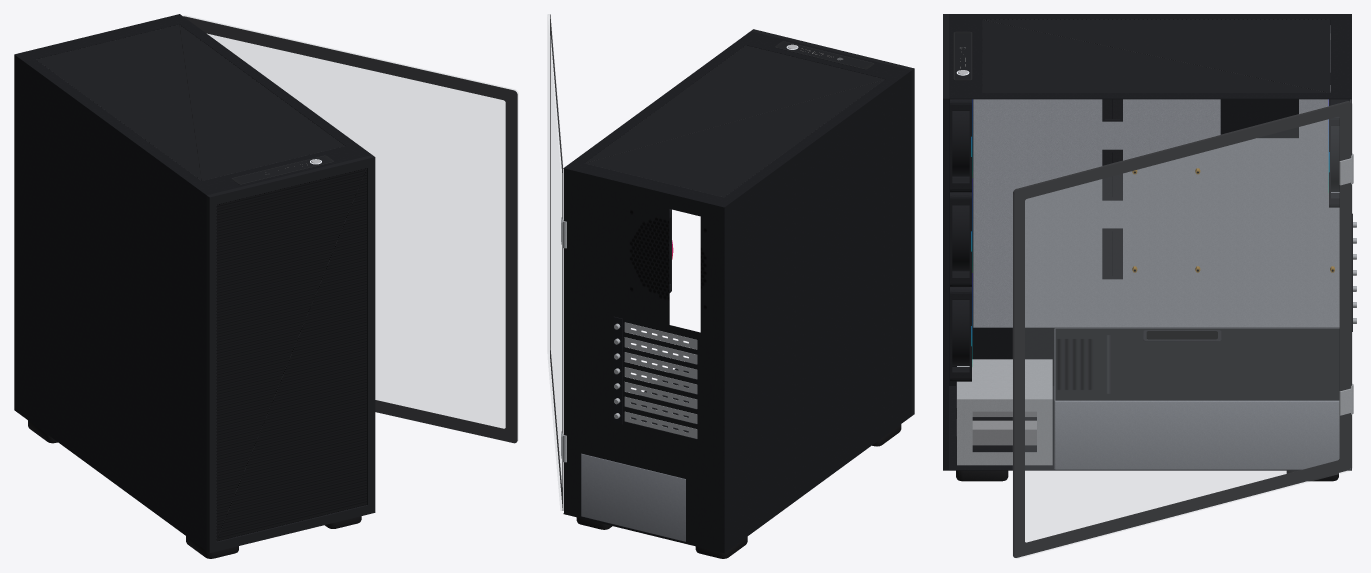
The model's file is open-mid-tower-pc-case.glb.
3 renders of one model, left to right at view 1: azimuth 30°, elevation 25°; view 2: azimuth 150°, elevation 25°; view 3: azimuth 270°, elevation 25°, orthographic. The views are drawn at different scales.
Parts seen in each view (by area): view 1: Front bezel and mesh, Steel chassis panels, Tempered glass side door (open), Glass frit border, Top I/O panel, Rubber feet; view 2: Steel chassis panels, Front bezel and mesh, PSU shroud, Expansion slot covers, Tempered glass side door (open), Glass frit border, Top I/O panel, Rubber feet; view 3: Tempered glass side door (open), Motherboard tray, PSU shroud, Front bezel and mesh, Glass frit border, Steel chassis panels, Drive cage with two 3.5 in sleds, Cable grommets, Front fan 2 frame, Front fan 1 frame, Front fan 3 frame, Rear fan frame (+3 smaller).
Part boxes in pixels (x1,y1,x2,y2): Front bezel and mesh: (36, 24, 375, 552); Steel chassis panels: (14, 14, 371, 550); Tempered glass side door (open): (184, 15, 518, 441); Glass frit border: (183, 16, 517, 443); Top I/O panel: (231, 155, 333, 184); Rubber feet: (28, 420, 361, 558); Steel chassis panels: (563, 31, 911, 553); Front bezel and mesh: (584, 29, 914, 415); PSU shroud: (581, 361, 695, 541); Expansion slot covers: (613, 316, 697, 438); Tempered glass side door (open): (547, 14, 562, 510); Glass frit border: (550, 14, 563, 510); Top I/O panel: (775, 41, 874, 69); Rubber feet: (576, 424, 901, 558); Tempered glass side door (open): (1016, 101, 1352, 558); Motherboard tray: (973, 25, 1351, 327); PSU shroud: (1054, 328, 1350, 469); Front bezel and mesh: (943, 14, 1329, 470); Glass frit border: (1013, 101, 1351, 557); Steel chassis panels: (949, 14, 1351, 470); Drive cage with two 3.5 in sleds: (956, 359, 1052, 465); Cable grommets: (1102, 99, 1122, 279); Front fan 2 frame: (950, 176, 971, 286); Front fan 1 frame: (950, 271, 971, 381); Front fan 3 frame: (950, 99, 971, 192); Rear fan frame: (1329, 73, 1350, 207).
Bounding box in the file's own units: 0.4768 × 0.4916 × 0.4758.
30 materials, 30 textured.
